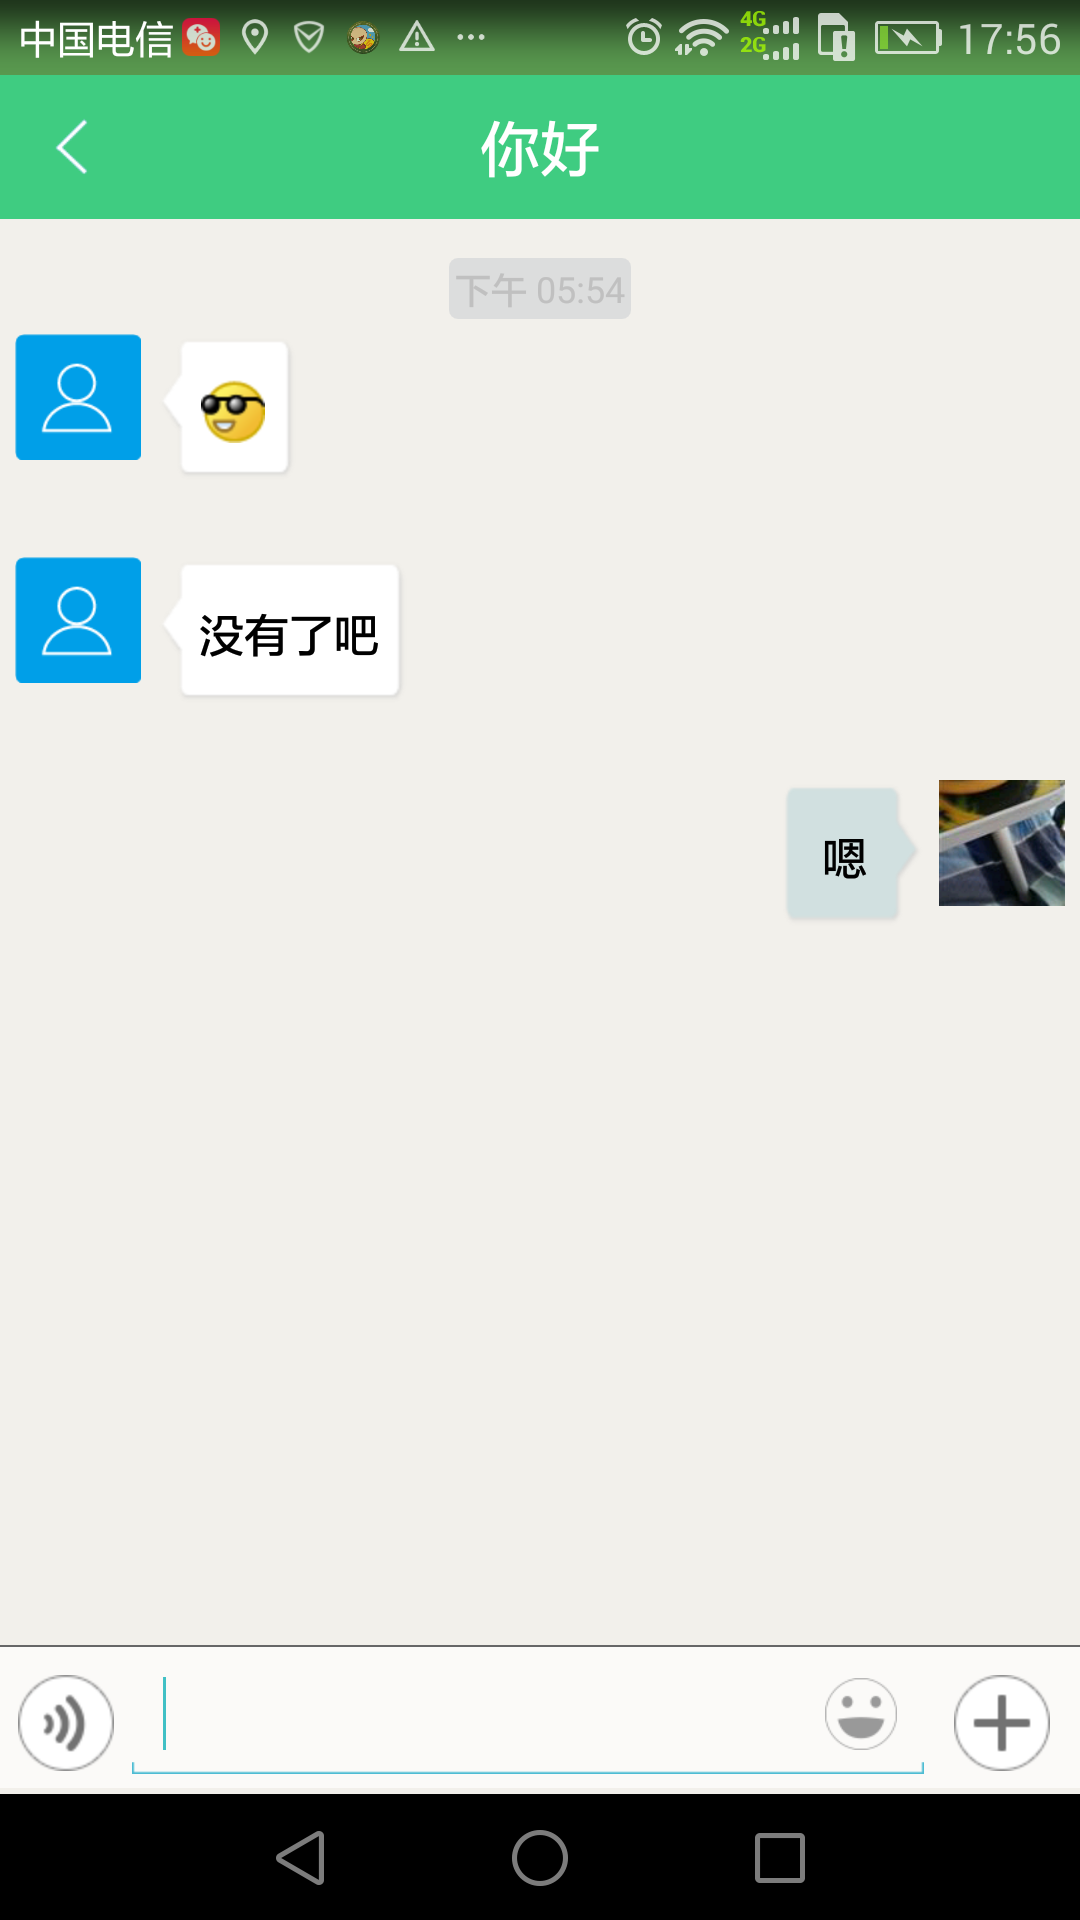alert: (429, 249, 655, 326)
imgbutton: (934, 1660, 1065, 1789), (3, 1660, 121, 1785), (32, 105, 117, 199)
imgview: (7, 553, 156, 694), (931, 774, 1075, 916)
textview: (119, 1658, 822, 1783)
